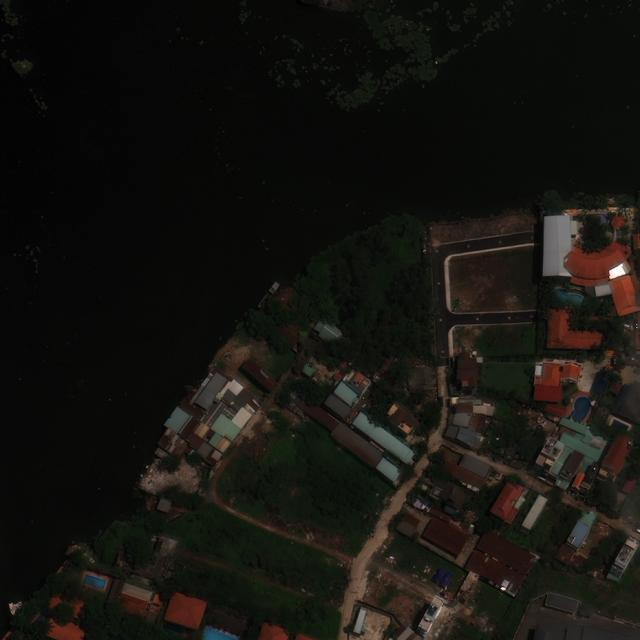Other Ship: (257, 281, 281, 310)
